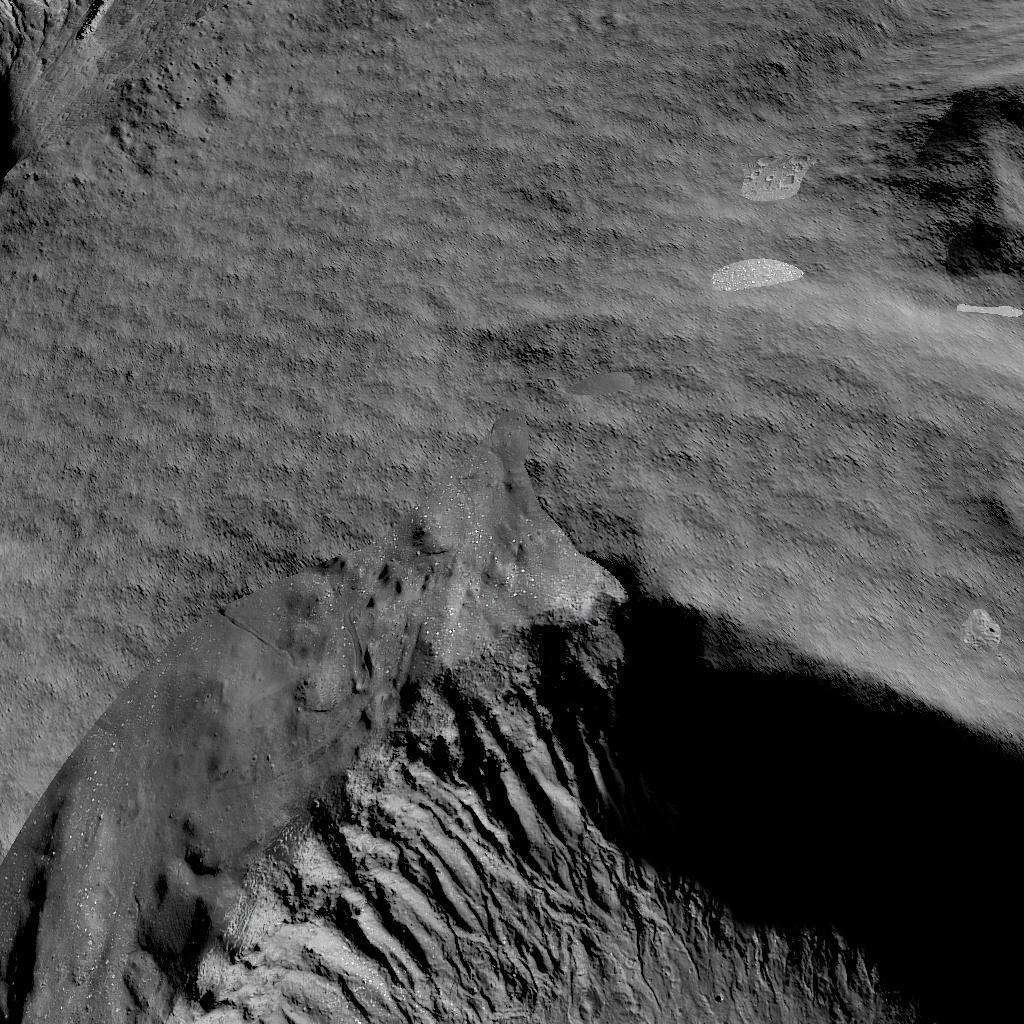Boulders: (0, 0, 272, 223)
Crater: (0, 464, 1024, 1024), (885, 77, 1024, 285)
Plan surface: (2, 248, 798, 428), (312, 0, 782, 213)
